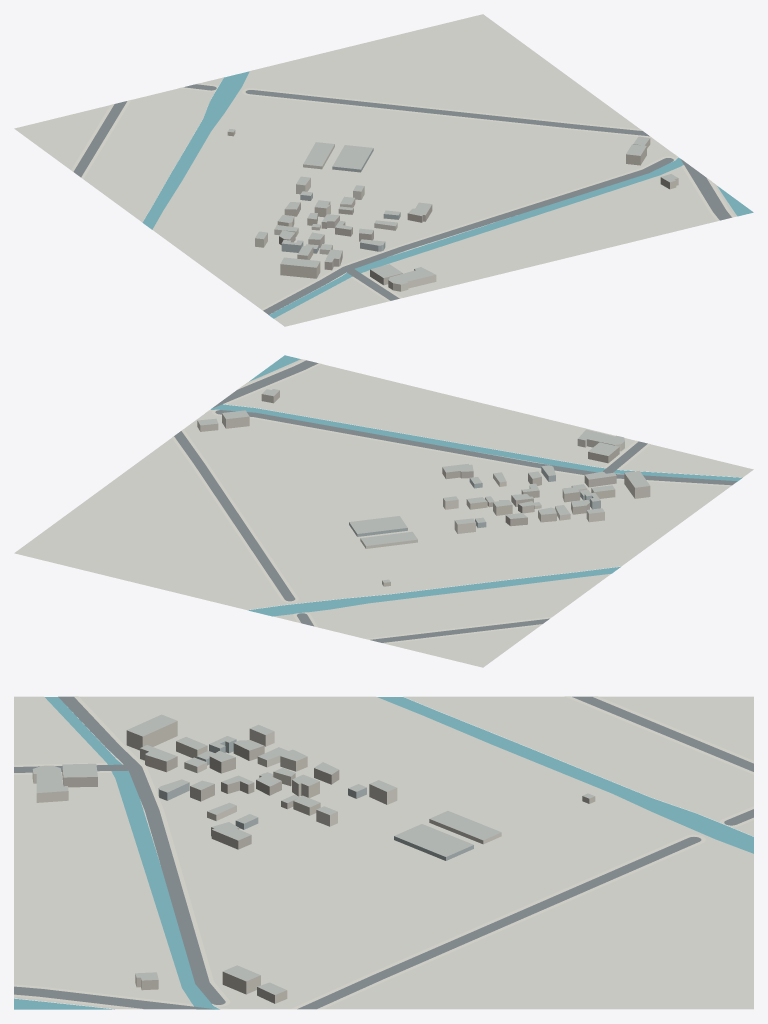
3 views of the same model, one above another, from view 1: azimuth 30°, elevation 25°; view 2: azimuth 150°, elevation 25°; view 3: azimuth 270°, elevation 25° (orthographic). The views are drawn at different scales.
Parts seen in each view (by area): view 1: city; view 2: city; view 3: city.
Part boxes in pixels (left/top/right/bottom): city: left=14, top=14, right=753, bottom=326; city: left=14, top=355, right=753, bottom=667; city: left=14, top=696, right=753, bottom=1009.
Bounding box in the file's own units: 500 × 11.48 × 500.
